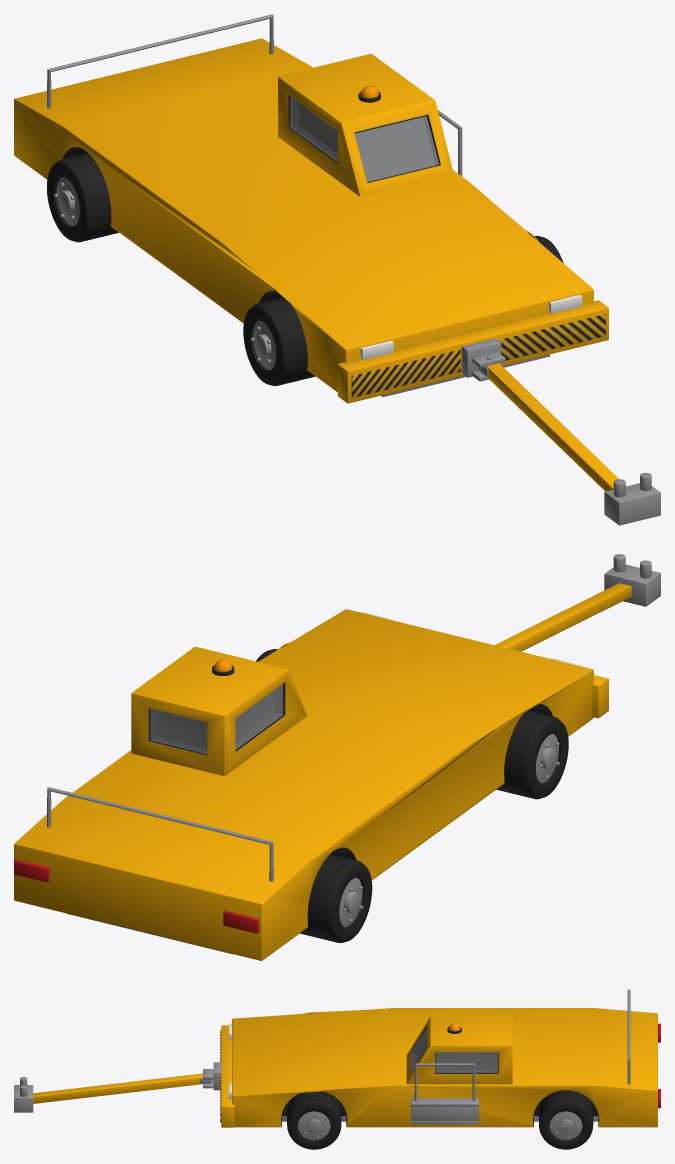
File: indo-thai.glb
3 renders of one model, top to bottom at view 1: azimuth 30°, elevation 25°; view 2: azimuth 150°, elevation 25°; view 3: azimuth 270°, elevation 25°, orthographic. The views are drawn at different scales.
Parts seen in each view (by area): view 1: tug, wheels, towbar; view 2: tug, wheels, towbar; view 3: tug, wheels, towbar.
Part boxes in pixels (<box>): tug: <box>14,14,608,403</box>; wheels: <box>47,153,563,386</box>; towbar: <box>478,363,660,525</box>; tug: <box>14,609,608,960</box>; wheels: <box>66,649,568,942</box>; towbar: <box>495,554,660,651</box>; tug: <box>203,989,660,1127</box>; wheels: <box>287,1090,593,1149</box>; towbar: <box>14,1073,211,1112</box>.
Size of the model in its own units: 2.23 by 1.2 by 6.68.
Materials: 4 (3 with a texture image).
